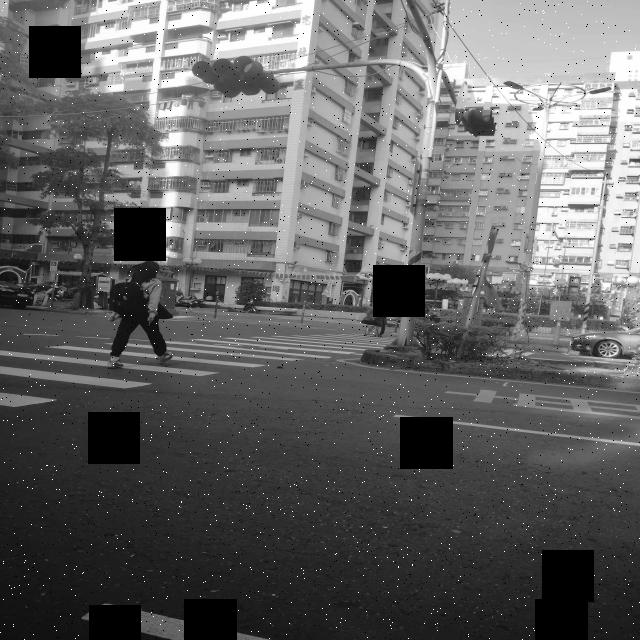person: (106, 261, 173, 369), (370, 301, 388, 334), (418, 302, 435, 320)
zebra crossing: (0, 334, 394, 407)
